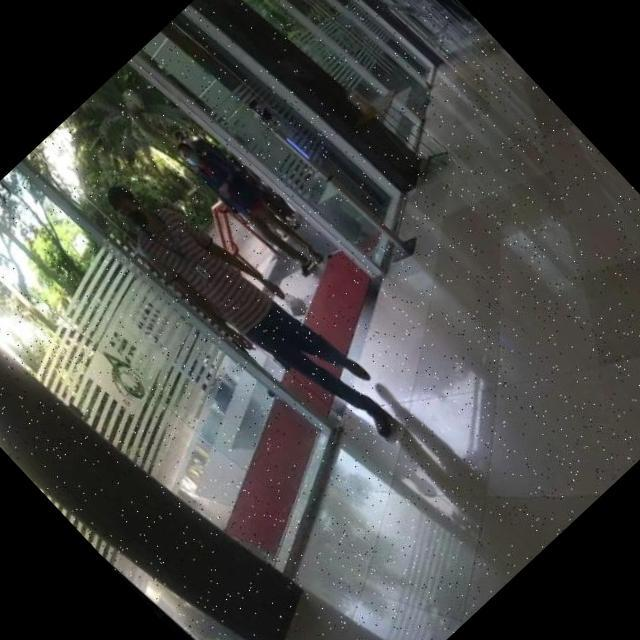person: (89, 140, 422, 486), (165, 117, 333, 290)
